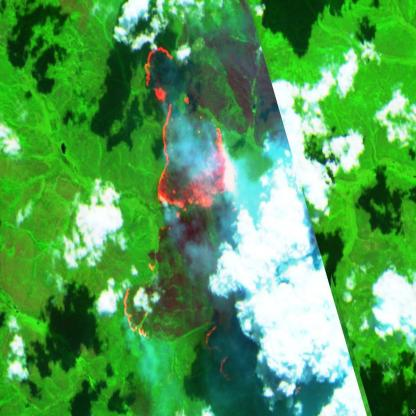fire: (138, 45, 243, 221), (119, 283, 162, 344), (201, 329, 243, 387)
